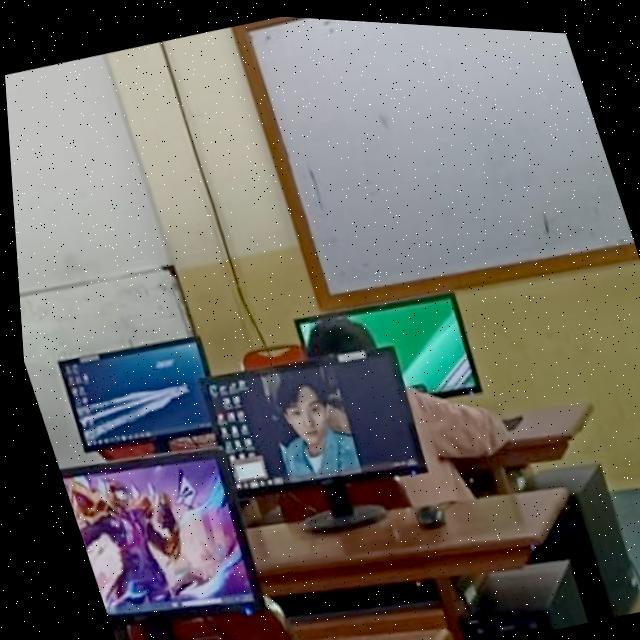onscreen: (196, 342, 419, 493), (55, 448, 253, 617), (290, 287, 475, 391), (53, 334, 204, 450)
